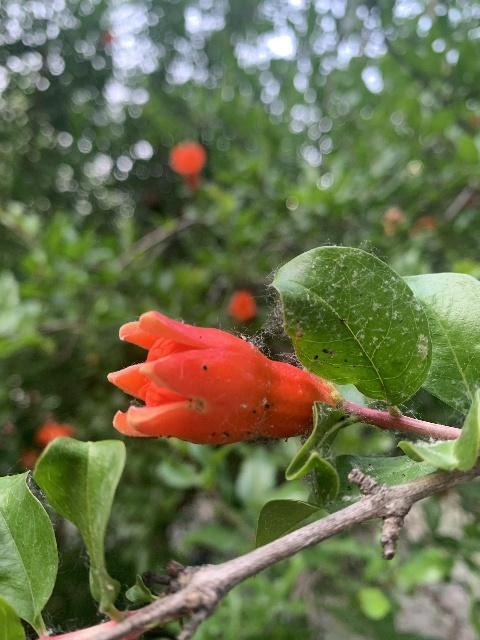flower: (103, 310, 336, 446), (168, 142, 206, 190), (227, 289, 257, 323)
